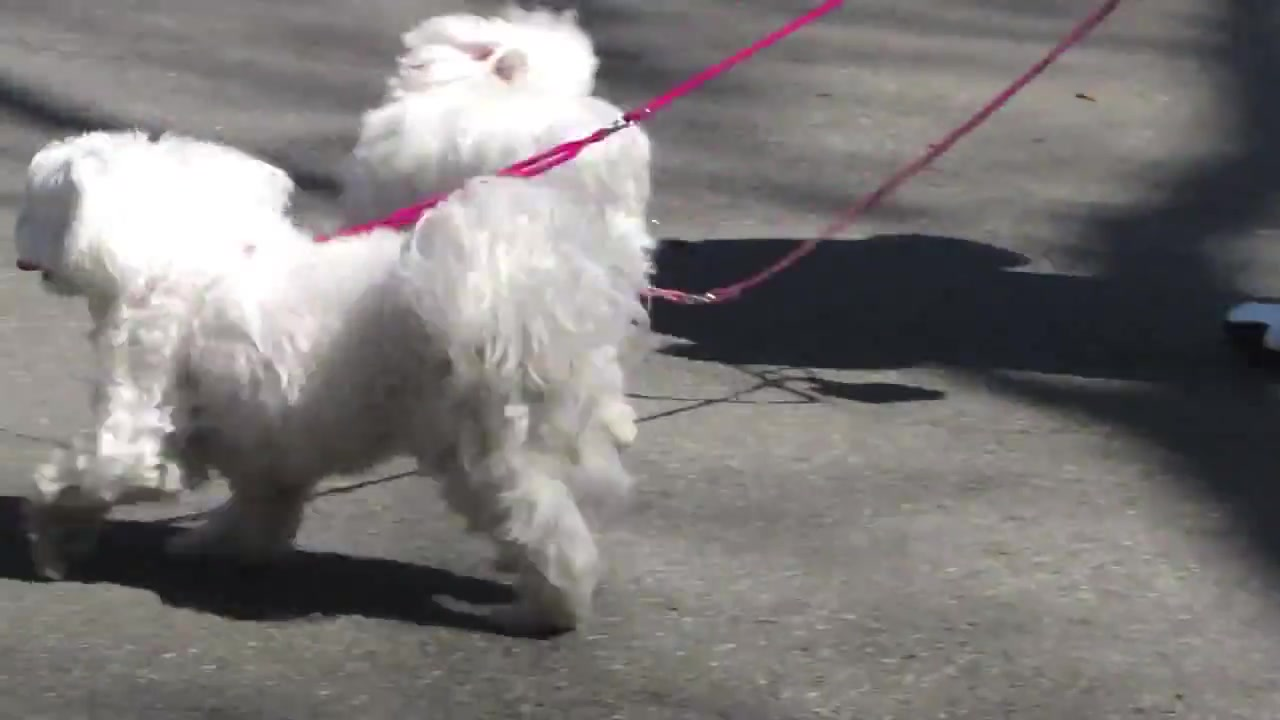dog: (11, 4, 653, 643)
